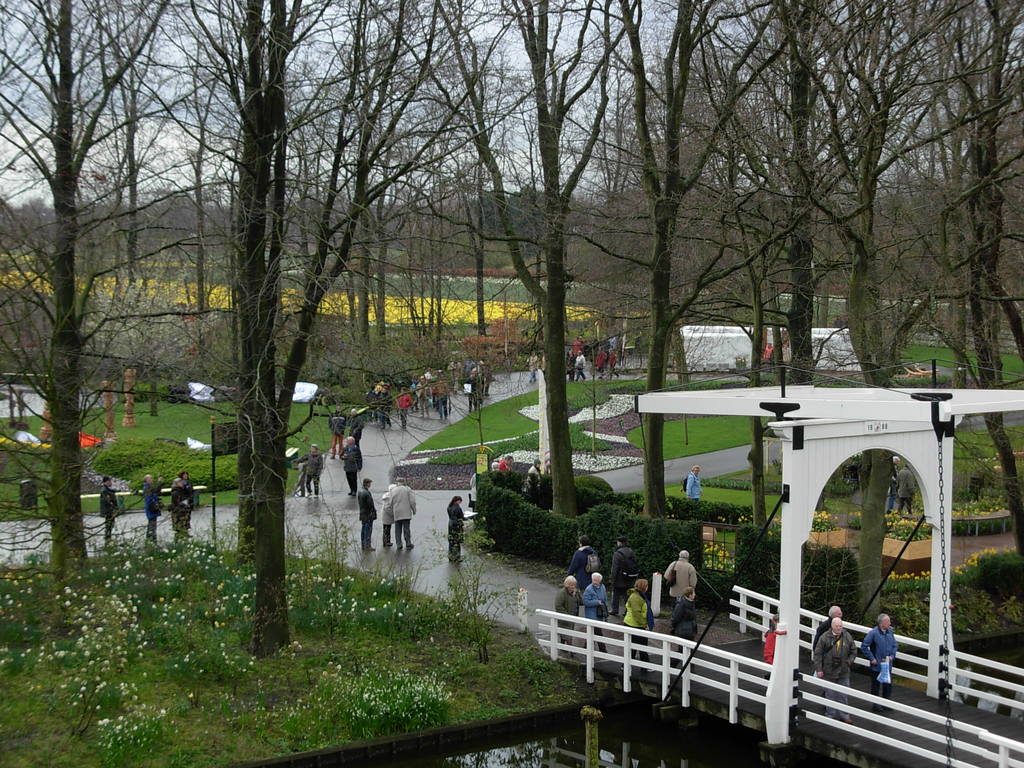Tree: (0, 0, 1023, 663)
